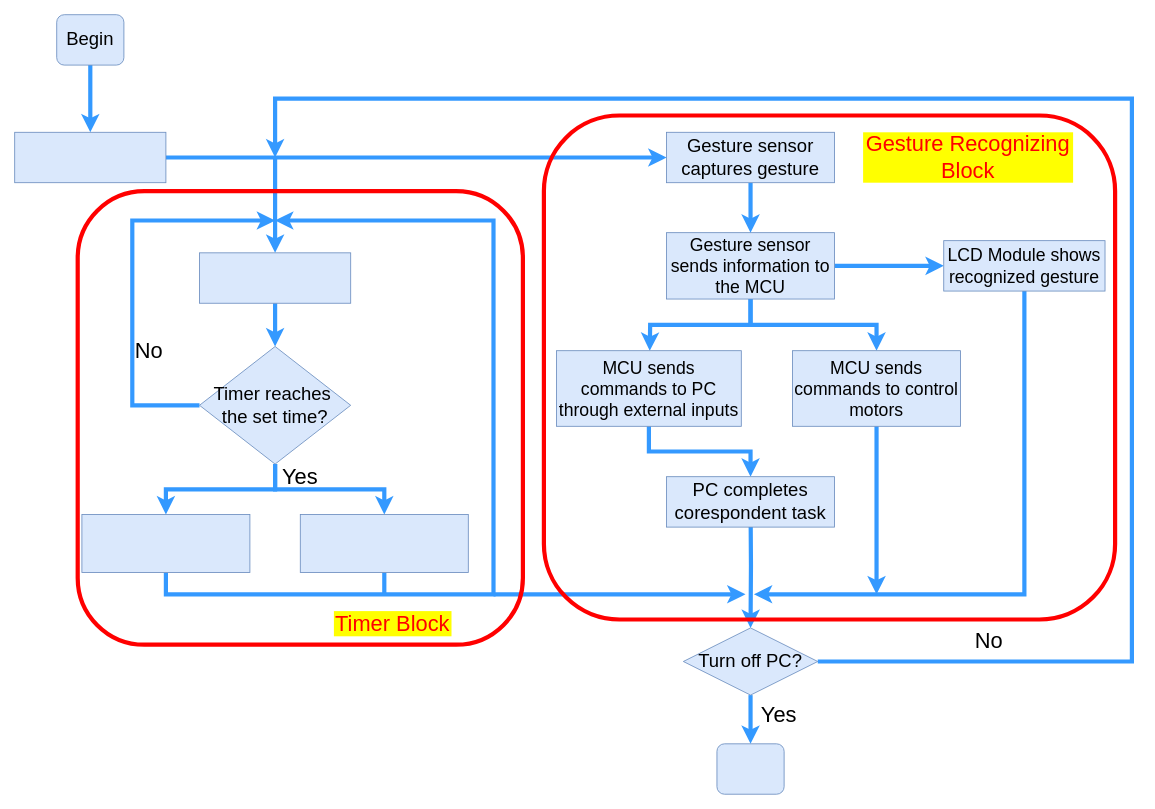
This 1155x809 diagram has some shape labels left out. Here are the shapes that lost their labels. From the top down, the box of each, then its label:
(14, 131, 166, 183): PC powers MCU
(199, 252, 351, 303): Timer counts
(81, 514, 250, 572): Buzzer beeps
(299, 514, 468, 572): LCD show water animate
(716, 743, 784, 794): End
